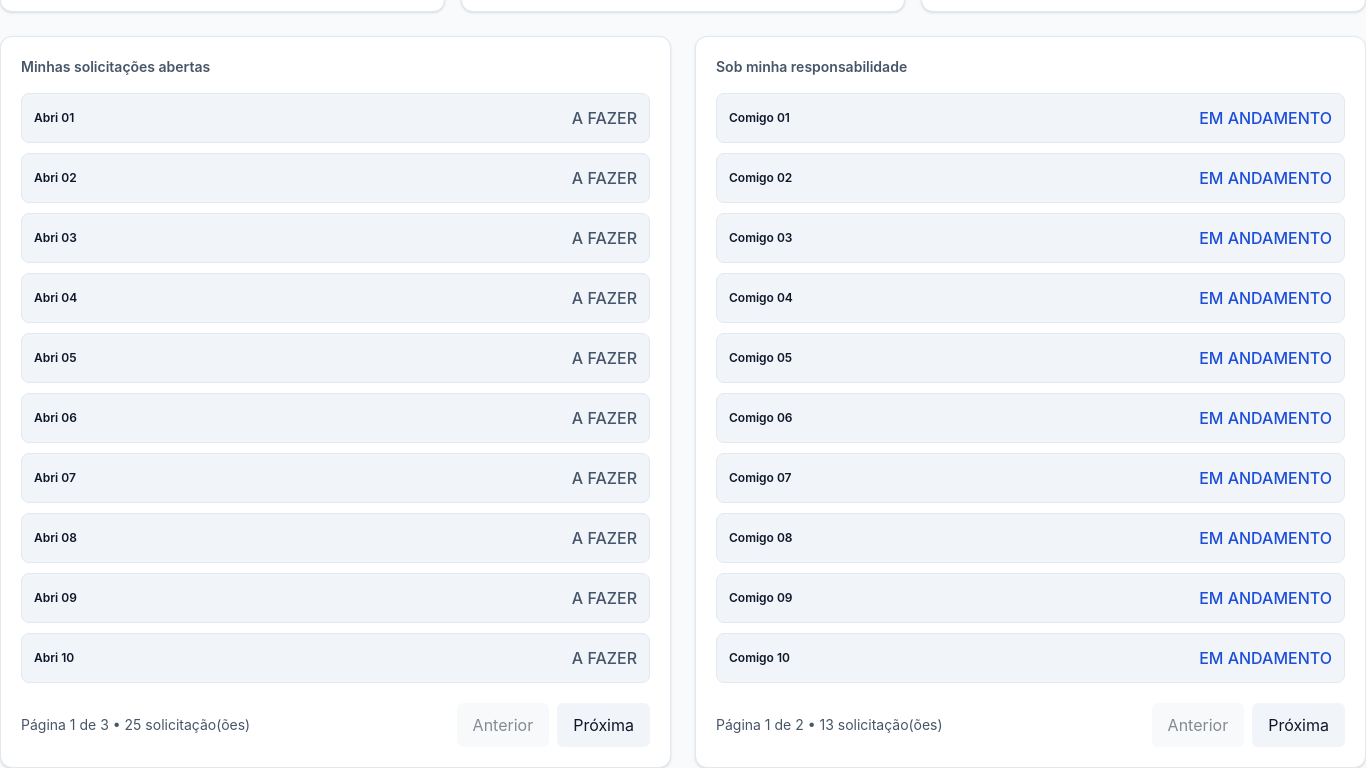
it: PessoalTab — listas em aberto, paginadas › deve voltar à primeira página das abertas pelo operador quando "Anterior" é acionado
(page scrolled)
Expected: the heading "Minhas solicitações abertas" is shown, [21,58,210,75]
What coordinates should you click on to do the following:
click the 1st button "Próxima"
I would click on:
 (604, 725)
Its box is [557,703,650,747].
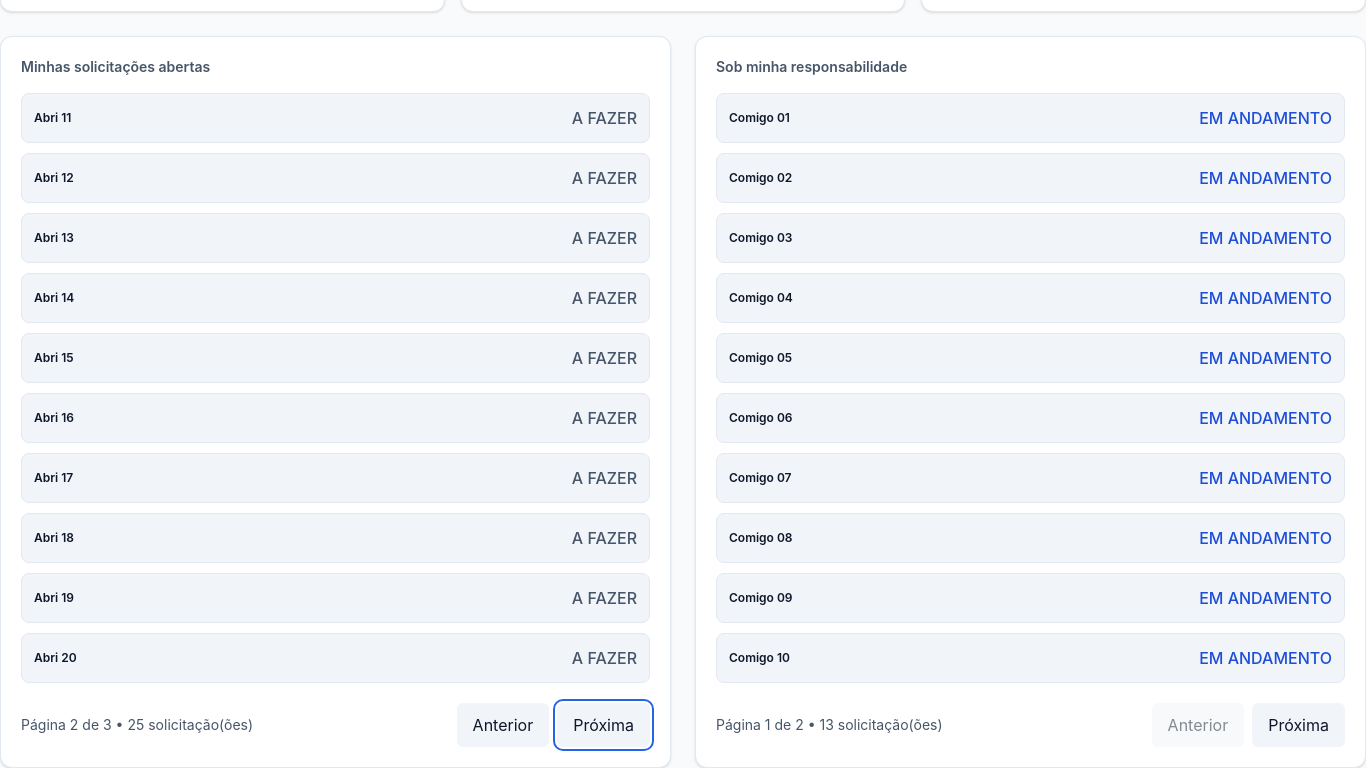
Result: the link "Abri 11 A fazer" is shown at [21,93,650,143]
What coordinates should you click on to do the following:
click the 1st button "Anterior"
I would click on:
 (503, 725)
Its box is [457,703,549,747].
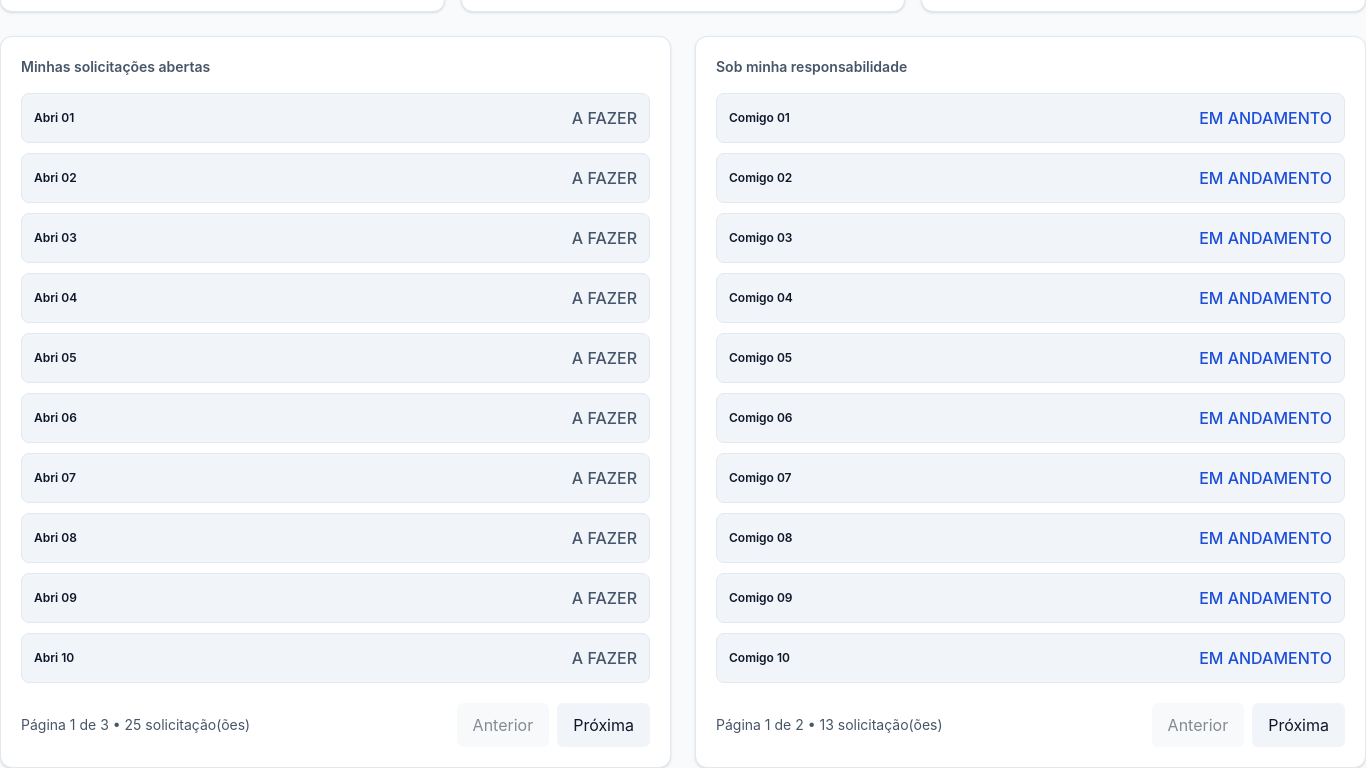
Result: the link "Abri 01 A fazer" is shown at [21,93,650,143]
